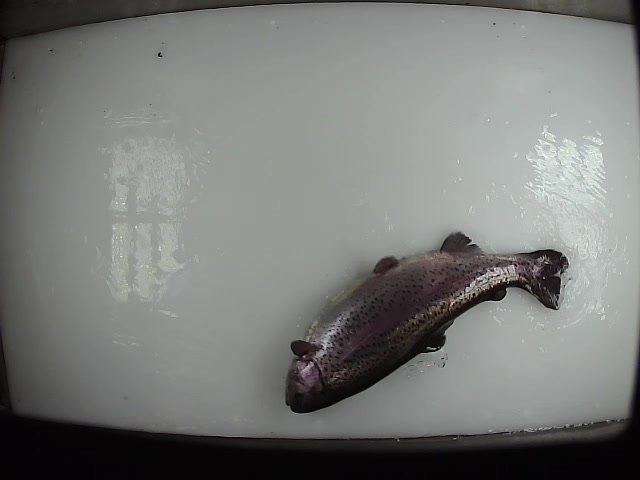fish: (282, 228, 571, 416)
